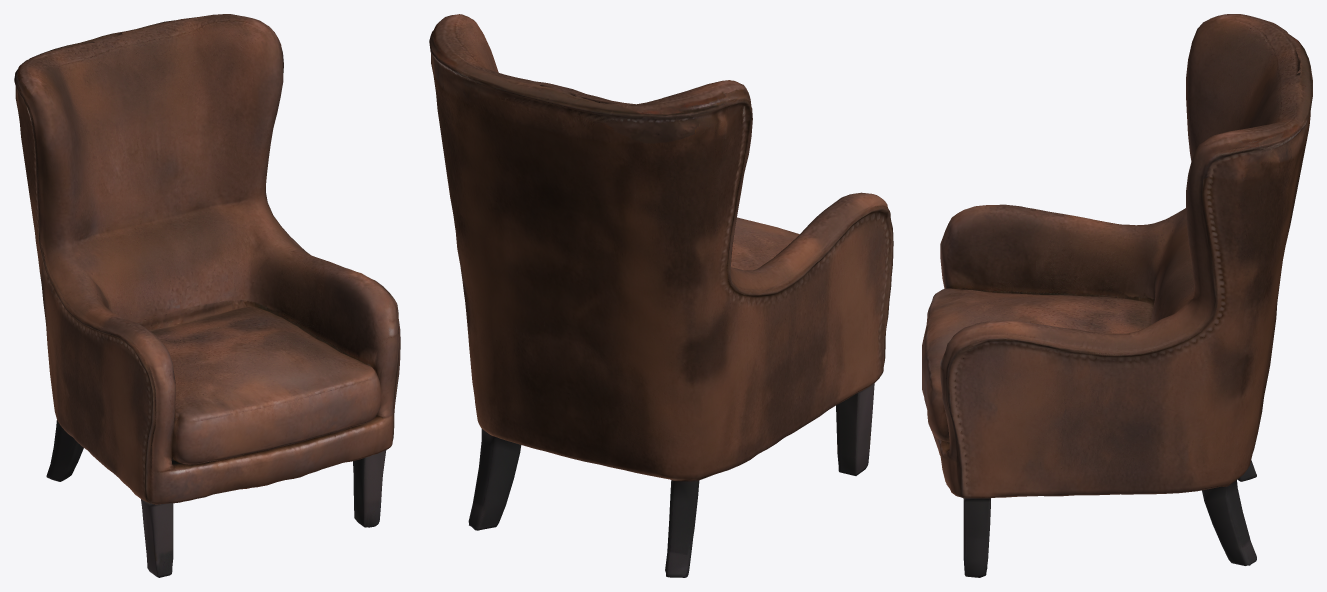
The model's file is Arizona_wingback_chair_40INCHESTALL_0428010429_texture.glb.
The picture shows the model from 3 angles, left to right: view 1: azimuth 30°, elevation 25°; view 2: azimuth 150°, elevation 25°; view 3: azimuth 270°, elevation 25°; orthographic projection. The views are drawn at different scales.
Parts seen in each view (by area): view 1: Mesh_0; view 2: Mesh_0; view 3: Mesh_0.
Part boxes in pixels (left/top/right/bottom): Mesh_0: left=14, top=14, right=400, bottom=577; Mesh_0: left=429, top=14, right=893, bottom=577; Mesh_0: left=922, top=14, right=1312, bottom=577.
Bounding box in the file's own units: 0.6666 × 1.04 × 0.8199.
1 material, 1 textured.
